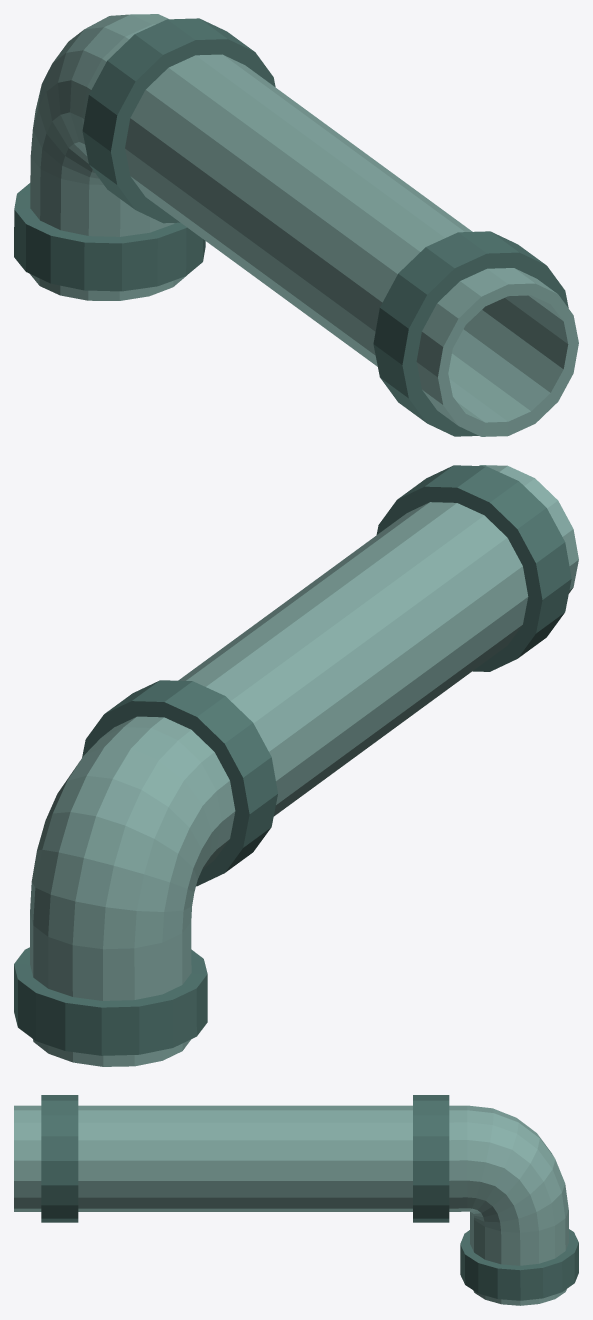
The model's file is Pipe.fbx.
3 views of the same model, one above another, from view 1: azimuth 30°, elevation 25°; view 2: azimuth 150°, elevation 25°; view 3: azimuth 270°, elevation 25° (orthographic). The views are drawn at different scales.
Parts seen in each view (by area): view 1: Pipe; view 2: Pipe; view 3: Pipe.
Part boxes in pixels (bbox=[...]): Pipe: bbox=[14, 14, 578, 436]; Pipe: bbox=[14, 465, 578, 1066]; Pipe: bbox=[14, 1095, 578, 1305].
Size of the model in its own units: 650 by 1048 by 2911.
